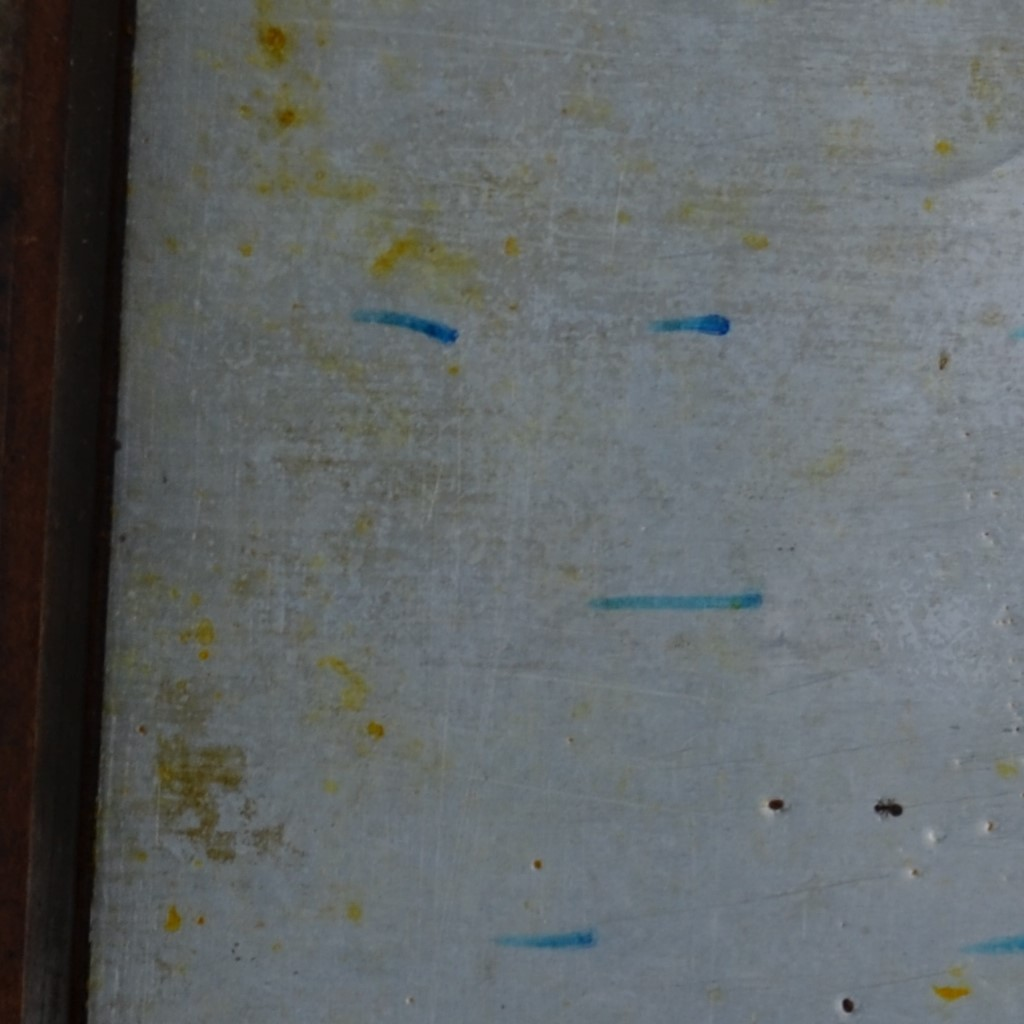varroa: (766, 795, 787, 814), (841, 995, 857, 1017)
